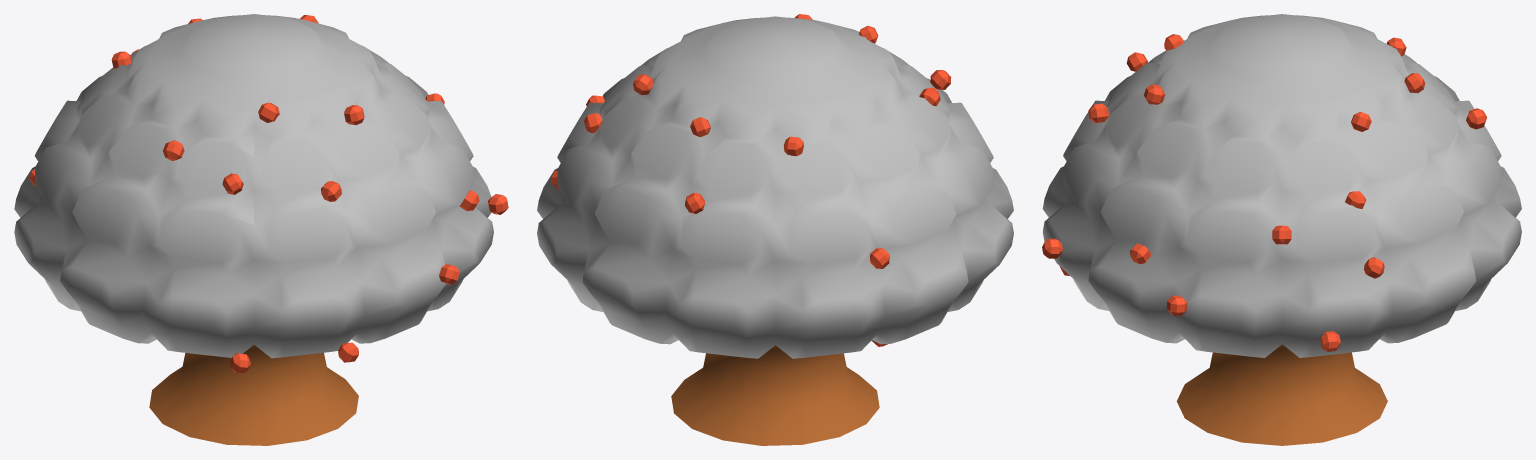
File: AppleTree.fbx
The picture shows the model from 3 angles, left to right: view 1: azimuth 30°, elevation 25°; view 2: azimuth 150°, elevation 25°; view 3: azimuth 270°, elevation 25°; orthographic projection.
Visible parts, largest first — view 1: AppleTree_LOD0; view 2: AppleTree_LOD0; view 3: AppleTree_LOD0.
Part boxes in pixels (bbox=[...]): AppleTree_LOD0: bbox=[14, 14, 508, 445]; AppleTree_LOD0: bbox=[537, 14, 1013, 445]; AppleTree_LOD0: bbox=[1042, 14, 1521, 445].
Size of what is drawn, in the model's own units: 670 by 564 by 668.
